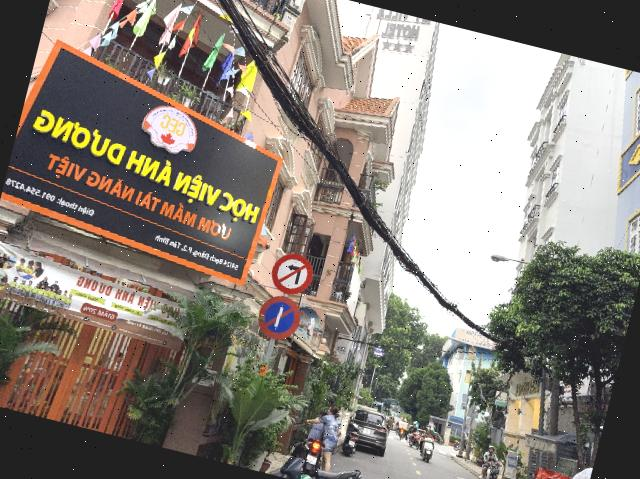cam-do-xe-ngay-le: (253, 292, 304, 344)
cam-re-phai: (267, 249, 317, 300)
